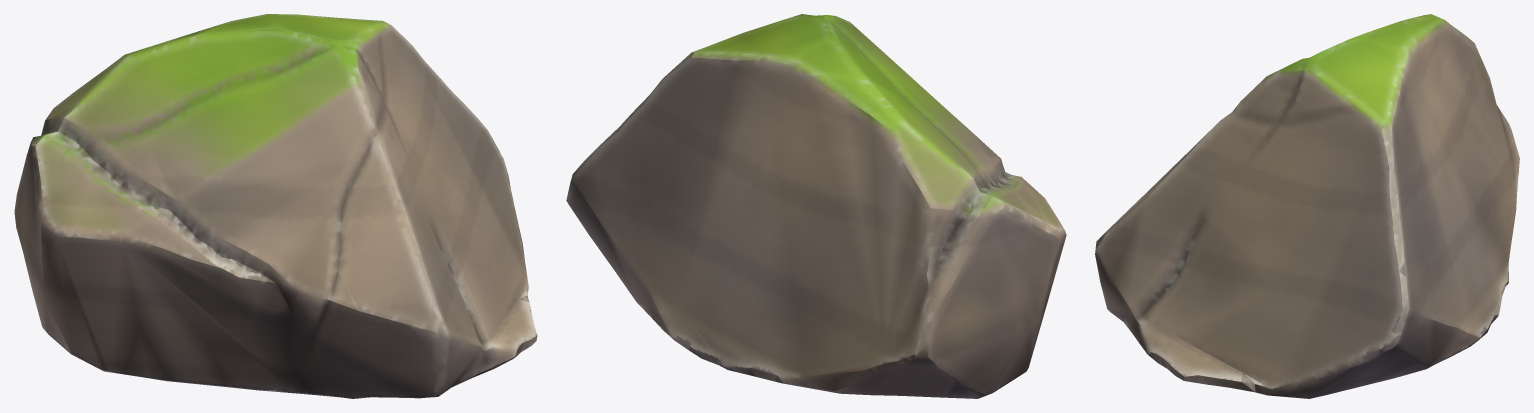
The model's file is rock_b.glb.
3 views of the same model, side by side, from view 1: azimuth 30°, elevation 25°; view 2: azimuth 150°, elevation 25°; view 3: azimuth 270°, elevation 25° (orthographic). The views are drawn at different scales.
Visible parts, largest first — view 1: rock_b; view 2: rock_b; view 3: rock_b.
Boxes of the visible parts, bbox=[...] form: rock_b: bbox=[14, 14, 537, 398]; rock_b: bbox=[566, 14, 1066, 398]; rock_b: bbox=[1095, 14, 1519, 398].
Size of the model in its own units: 0.9548 by 0.5816 by 0.7839.
1 material, 1 textured.
